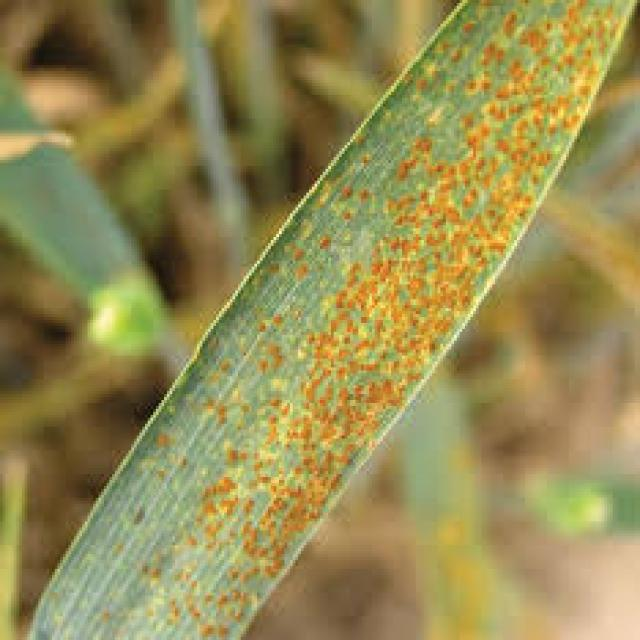leaf rust: (71, 3, 626, 631)
